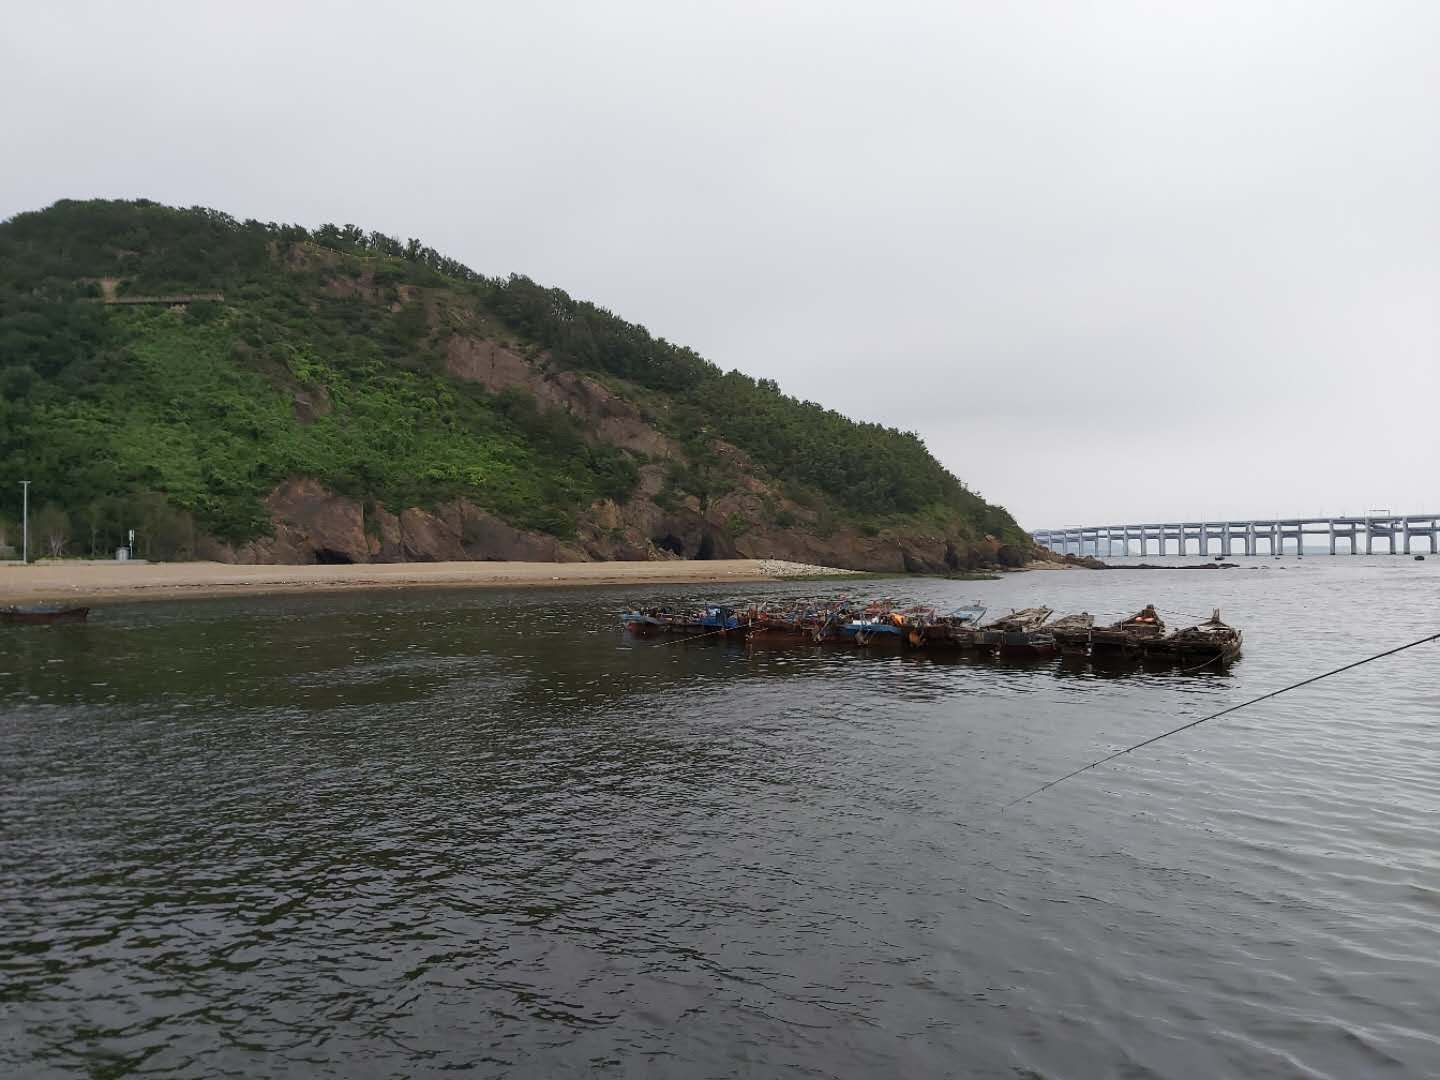boat: (1149, 609, 1243, 681), (1052, 597, 1157, 659), (952, 594, 1044, 663), (823, 593, 935, 647), (736, 590, 847, 640), (998, 610, 1094, 667), (882, 604, 984, 651), (1, 594, 95, 634), (610, 594, 684, 634), (1411, 549, 1429, 567)
bridge: (1039, 506, 1433, 554)
rock: (1107, 552, 1244, 576)
